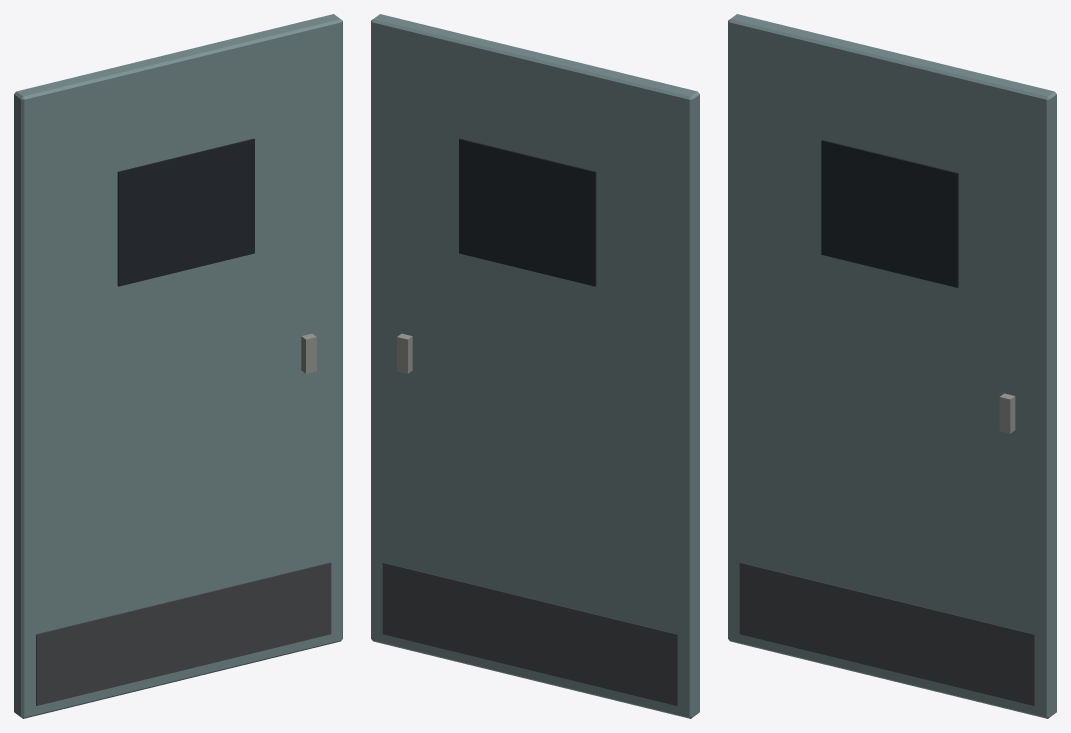
File: door_panel.glb
The picture shows the model from 3 angles, left to right: view 1: azimuth 30°, elevation 25°; view 2: azimuth 150°, elevation 25°; view 3: azimuth 330°, elevation 25°; orthographic projection.
Parts seen in each view (by area): view 1: door_panel; view 2: door_panel; view 3: door_panel.
Boxes of the visible parts, bbox=[...] form: door_panel: bbox=[14, 14, 342, 718]; door_panel: bbox=[371, 14, 699, 718]; door_panel: bbox=[728, 14, 1056, 718].
Size of the model in its own units: 1.18 by 2.18 by 0.13.
